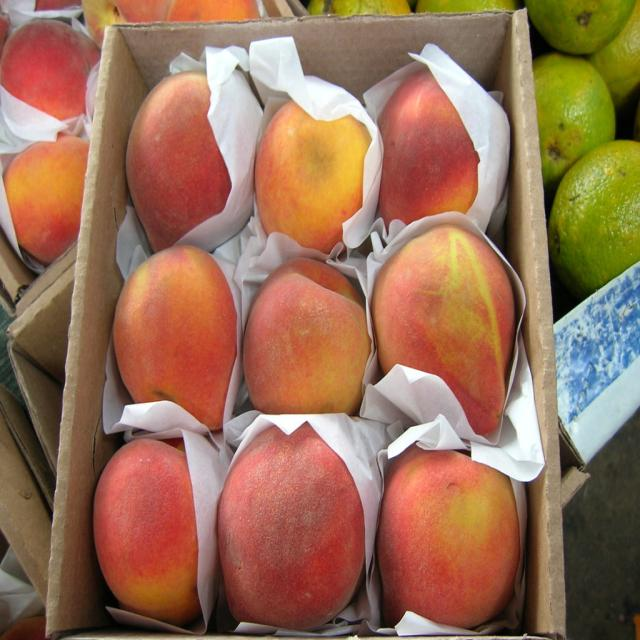Peach: (372, 222, 516, 439), (217, 426, 366, 634), (378, 443, 520, 628), (112, 241, 238, 434), (244, 256, 370, 416), (93, 438, 199, 628), (125, 68, 230, 252), (253, 97, 372, 254), (378, 70, 480, 234), (2, 131, 90, 267), (0, 16, 102, 125), (82, 0, 261, 52)
